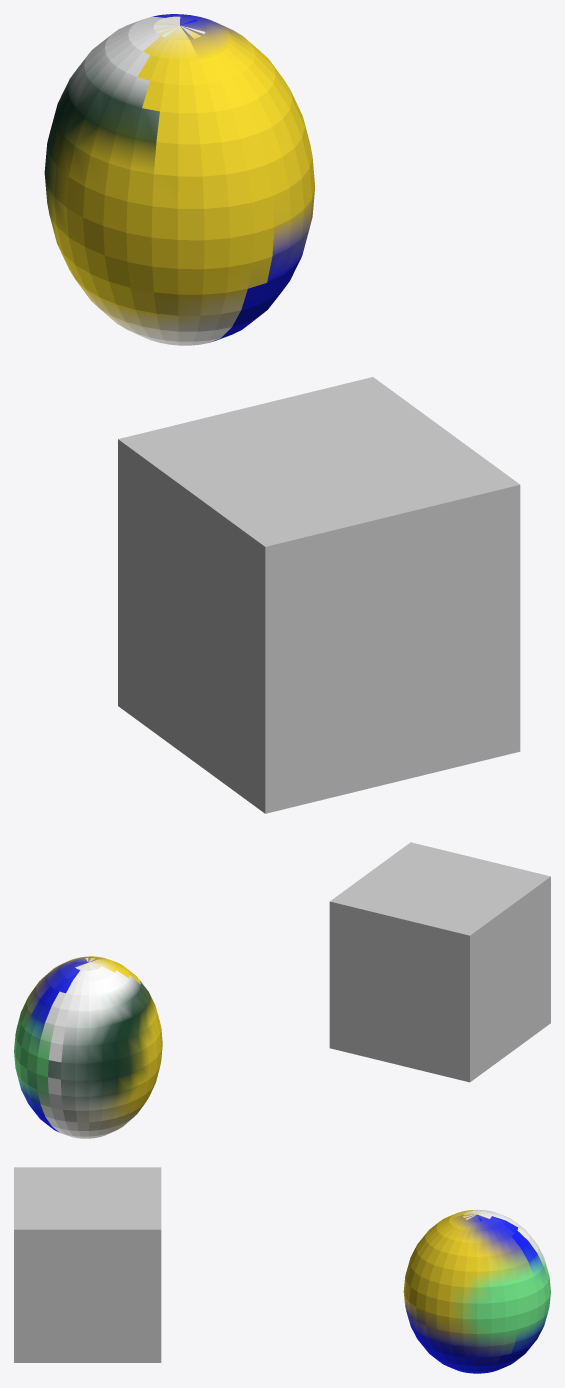
The model's file is modo.dae.
3 renders of one model, top to bottom at view 1: azimuth 30°, elevation 25°; view 2: azimuth 150°, elevation 25°; view 3: azimuth 270°, elevation 25°, orthographic. The views are drawn at different scales.
Visible parts, largest first — view 1: Cube, Sphere; view 2: Cube, Sphere; view 3: Cube, Sphere.
Boxes of the visible parts, left/top/right/bottom form: Cube: left=118, top=377, right=520, bottom=813; Sphere: left=44, top=14, right=315, bottom=345; Cube: left=329, top=842, right=550, bottom=1082; Sphere: left=14, top=956, right=162, bottom=1138; Cube: left=14, top=1167, right=161, bottom=1362; Sphere: left=403, top=1209, right=550, bottom=1373.
Bounding box in the file's own units: 3.85 × 7.29 × 2.67.
